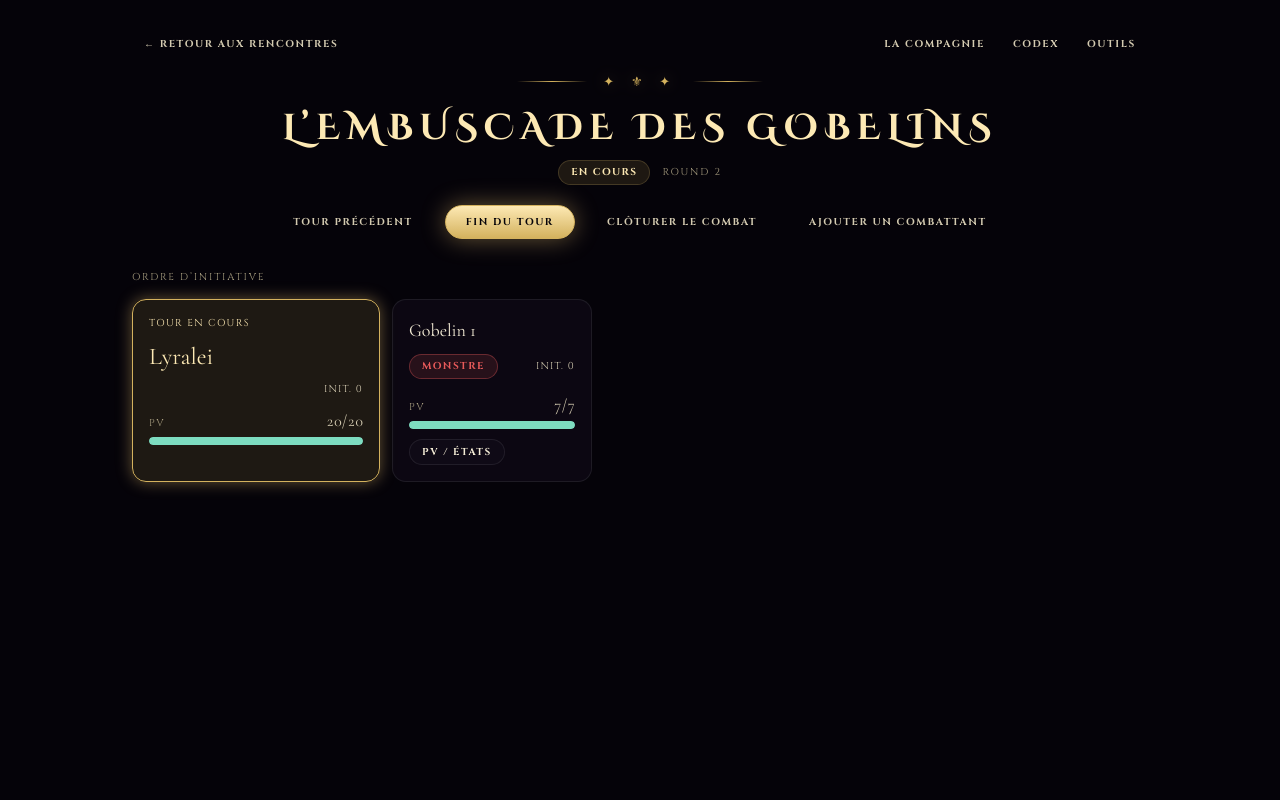
Scenario: <EncounterScreen> — la compagnie en superposition (E7) › le bouton ouvre la compagnie par-dessus le tracker, sans le démonter
Click the button "La compagnie": (935, 44) top-left (872, 32), bottom-right (997, 56)
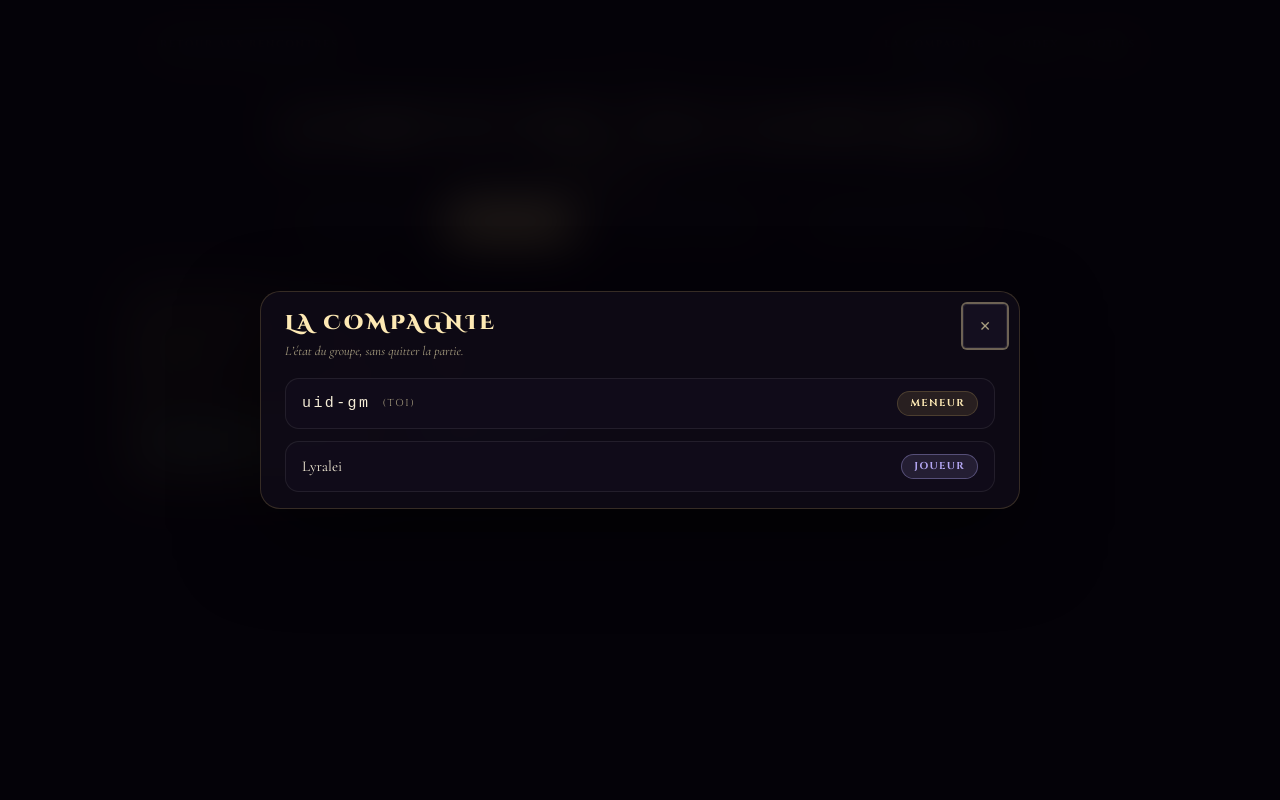
Result: the text "Lyralei" is shown at top-left (302, 455), bottom-right (342, 478)
Result: the button "Meneur" is shown at top-left (897, 391), bottom-right (978, 416)
Result: the button "Joueur" is shown at top-left (901, 454), bottom-right (978, 479)
